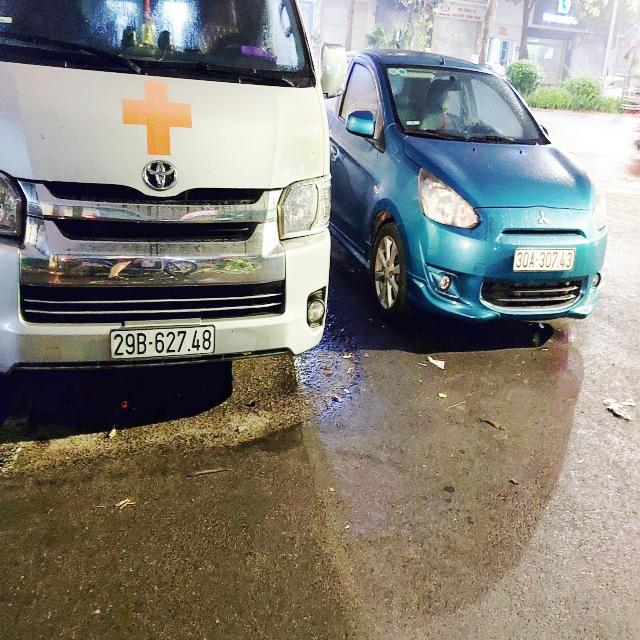license_plate: (108, 324, 220, 363), (512, 247, 580, 276)
